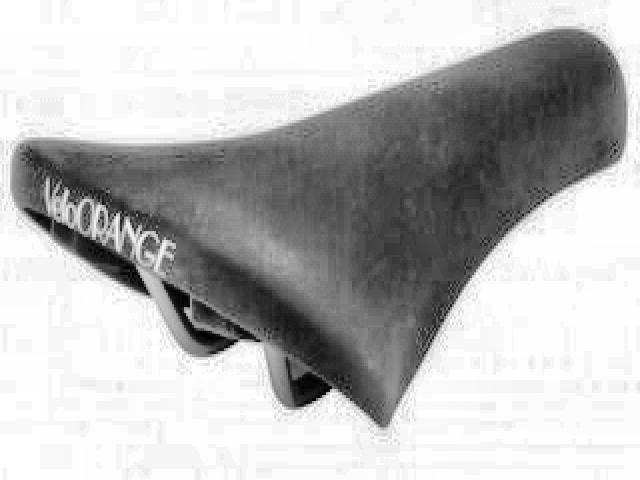saddle: (11, 28, 629, 435)
